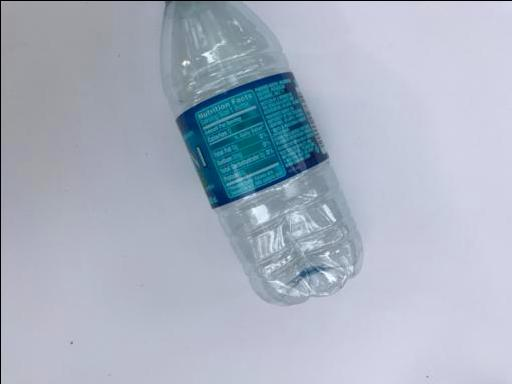PET: (158, 1, 364, 307)
dasani: (158, 1, 364, 307)
plastic: (158, 1, 364, 307)
water: (158, 1, 364, 307)
